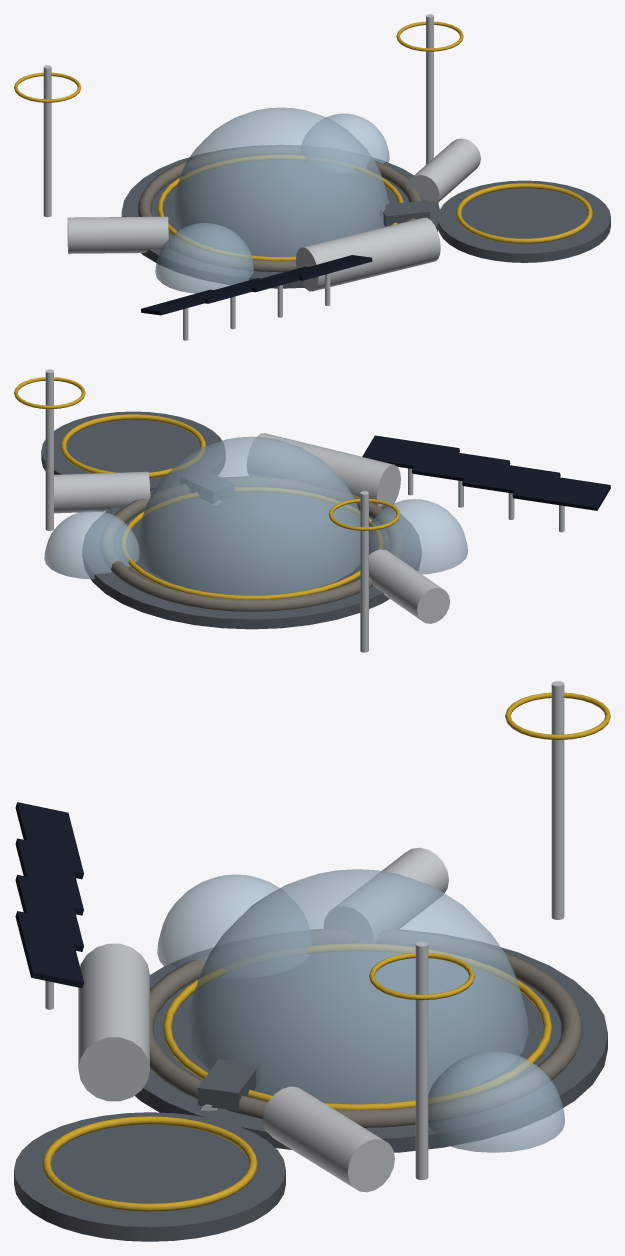
File: amity.glb
3 renders of one model, top to bottom at view 1: azimuth 30°, elevation 25°; view 2: azimuth 150°, elevation 25°; view 3: azimuth 270°, elevation 25°, orthographic. The views are drawn at different scales.
Parts seen in each view (by area): view 1: optimized lunar city glb; view 2: optimized lunar city glb; view 3: optimized lunar city glb.
Part boxes in pixels (x1,y1,x2,y2): optimized lunar city glb: (14, 14, 610, 340); optimized lunar city glb: (14, 369, 610, 652); optimized lunar city glb: (14, 681, 610, 1241).
Bounding box in the file's own units: 2.46 × 0.7225 × 1.67.
